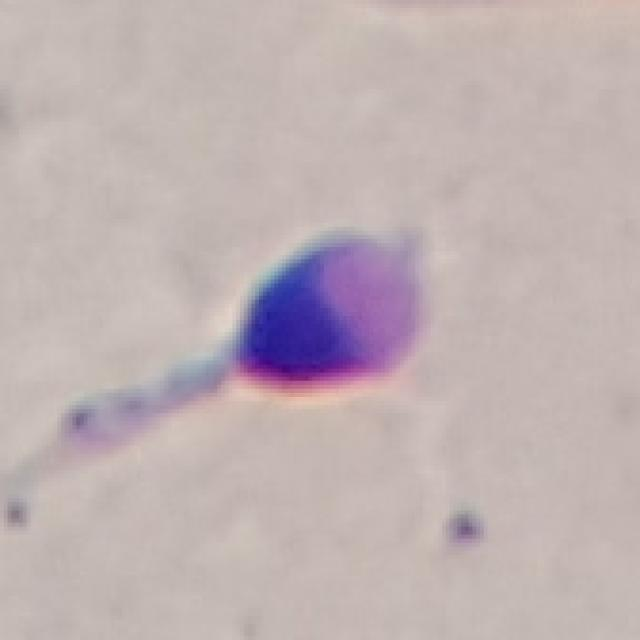normal sperm: (132, 233, 422, 418)
